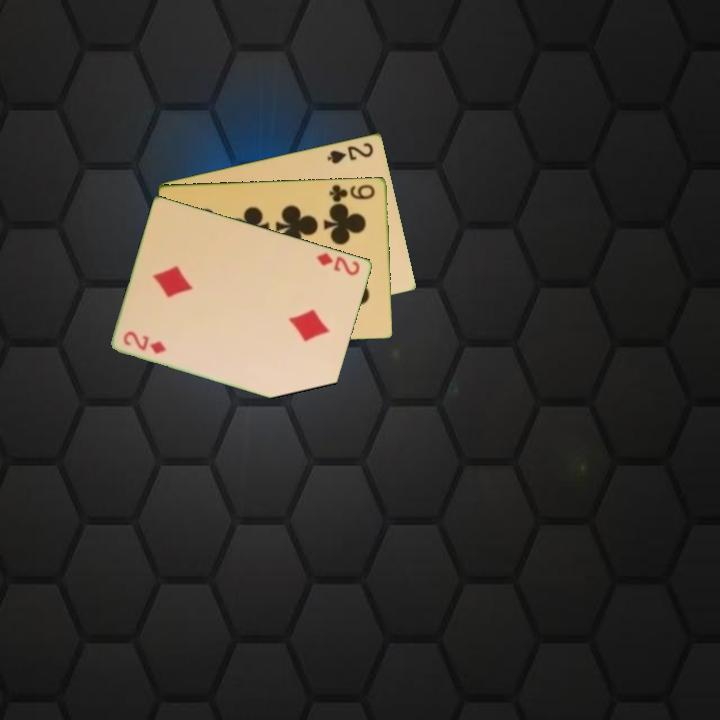2d: (313, 249, 363, 278), (120, 328, 169, 357)
2s: (324, 139, 376, 166)
9c: (326, 181, 378, 204)
